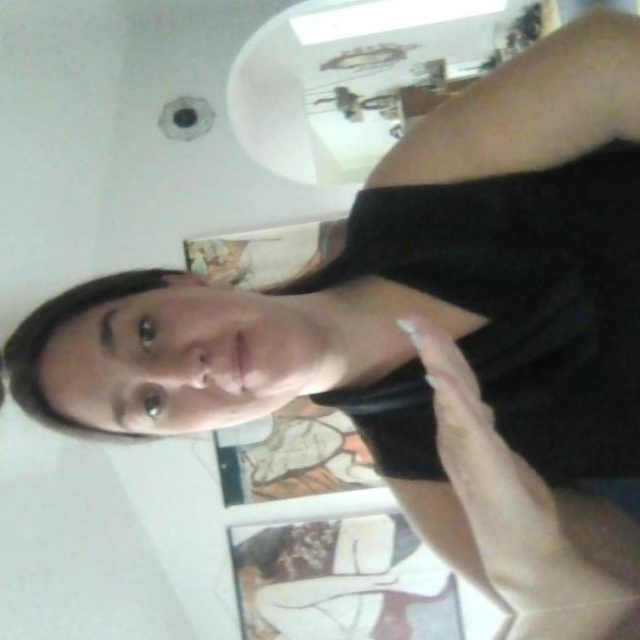Paper: (376, 284, 568, 594), (381, 296, 516, 472)
